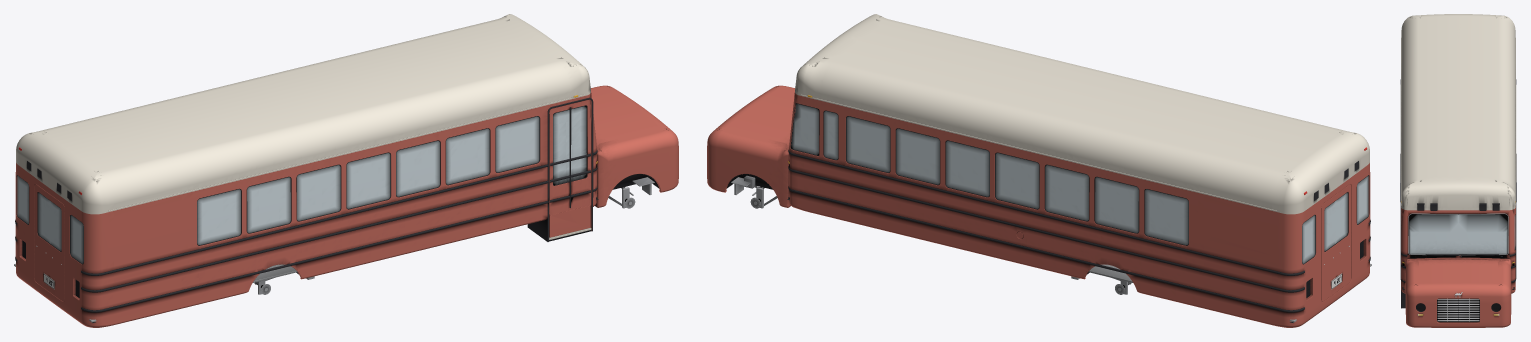
Rendered from camel.glb.
3 renders of one model, left to right at view 1: azimuth 30°, elevation 25°; view 2: azimuth 150°, elevation 25°; view 3: azimuth 270°, elevation 25°, orthographic. The views are drawn at different scales.
Parts seen in each view (by area): view 1: BODY, GLASS, P_door_side, PG_door_side, P_hood, P_trunk, PG_trunk, INTERIOR; view 2: BODY, GLASS, P_hood, P_trunk, PG_trunk; view 3: BODY, GLASS, P_hood.
Part boxes in pixels (left/top/right/bottom): BODY: left=15, top=14, right=678, bottom=327; GLASS: left=17, top=116, right=539, bottom=263; P_door_side: left=549, top=99, right=590, bottom=237; PG_door_side: left=553, top=106, right=586, bottom=184; P_hood: left=591, top=88, right=660, bottom=148; P_trunk: left=34, top=184, right=64, bottom=301; PG_trunk: left=38, top=192, right=61, bottom=250; INTERIOR: left=14, top=197, right=597, bottom=322; BODY: left=707, top=14, right=1370, bottom=327; GLASS: left=791, top=103, right=1368, bottom=263; P_hood: left=725, top=88, right=794, bottom=148; P_trunk: left=1321, top=184, right=1351, bottom=301; PG_trunk: left=1324, top=192, right=1347, bottom=250; BODY: left=1400, top=14, right=1516, bottom=327; GLASS: left=1409, top=214, right=1515, bottom=254; P_hood: left=1415, top=259, right=1501, bottom=283.
Size of the model in its own units: 10.62 by 2.86 by 2.46.
